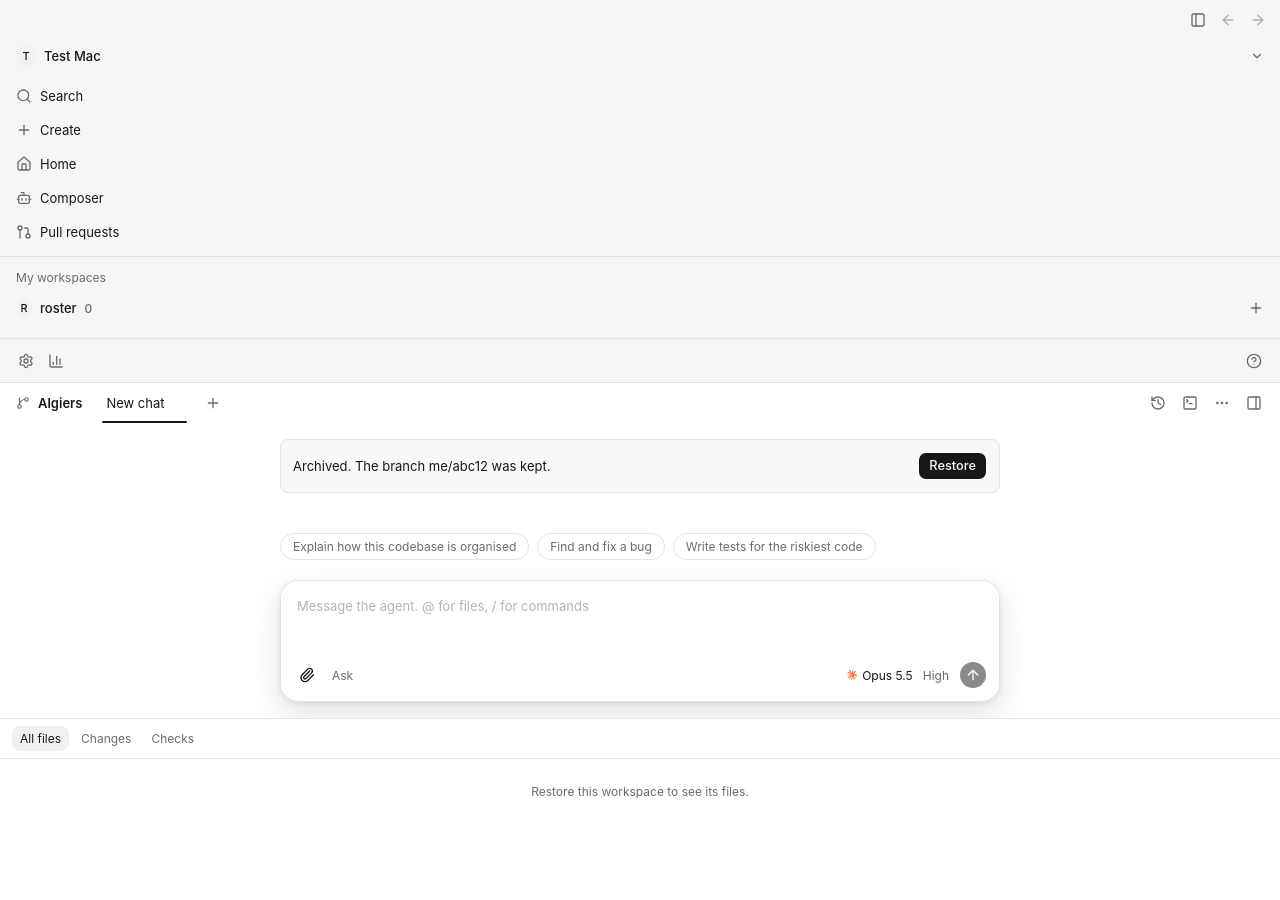
Test: Workspace page › offers Restore for an archived workspace and no Archive
Expected: the text "Archived. The branch me/abc12 was kept." is shown, [293,456,550,476]
Click the button "Restore". click: (953, 466)
box: [918,452,987,480]
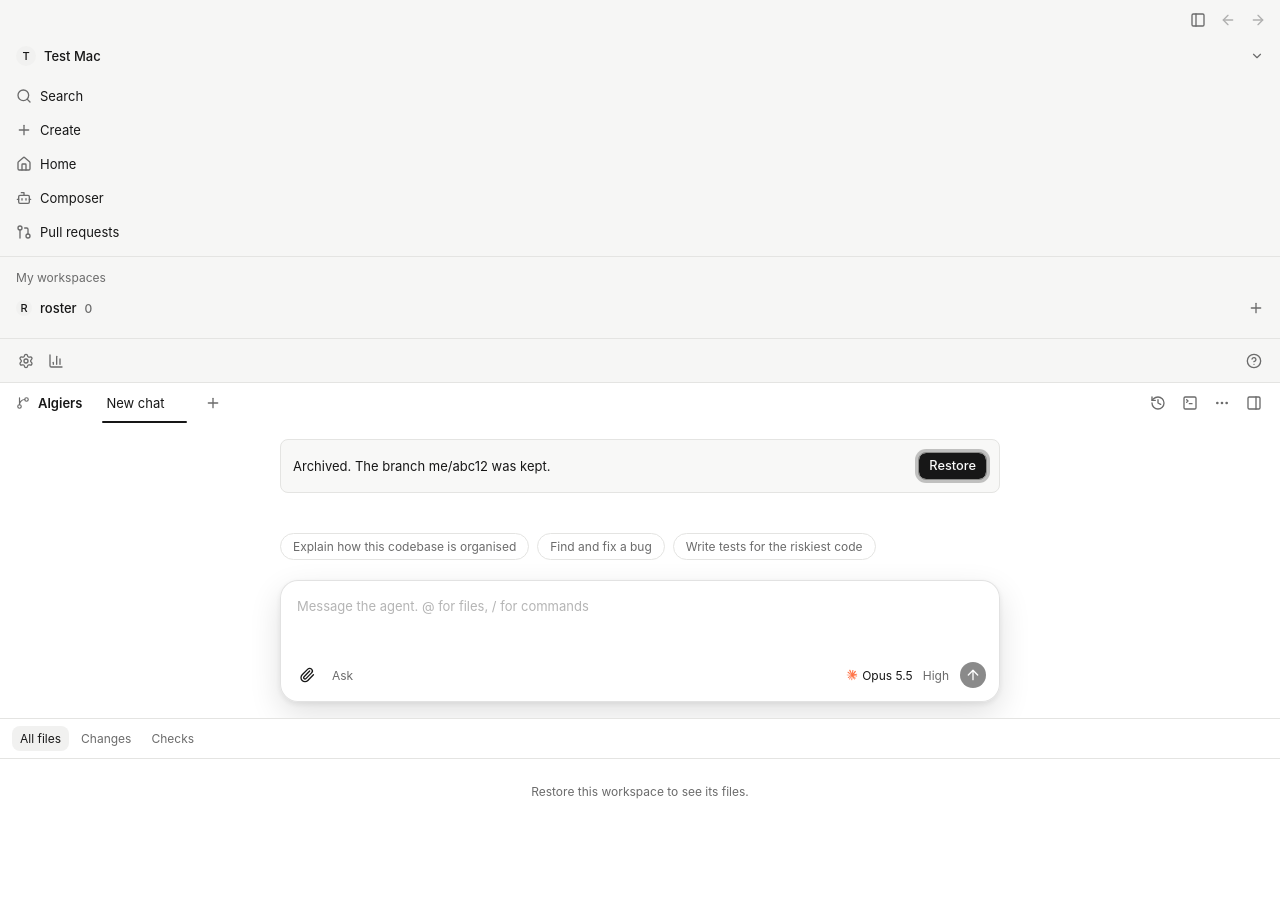
Click the button named "Actions for Algiers". click: (1222, 403)
box: [1208,389,1236,417]
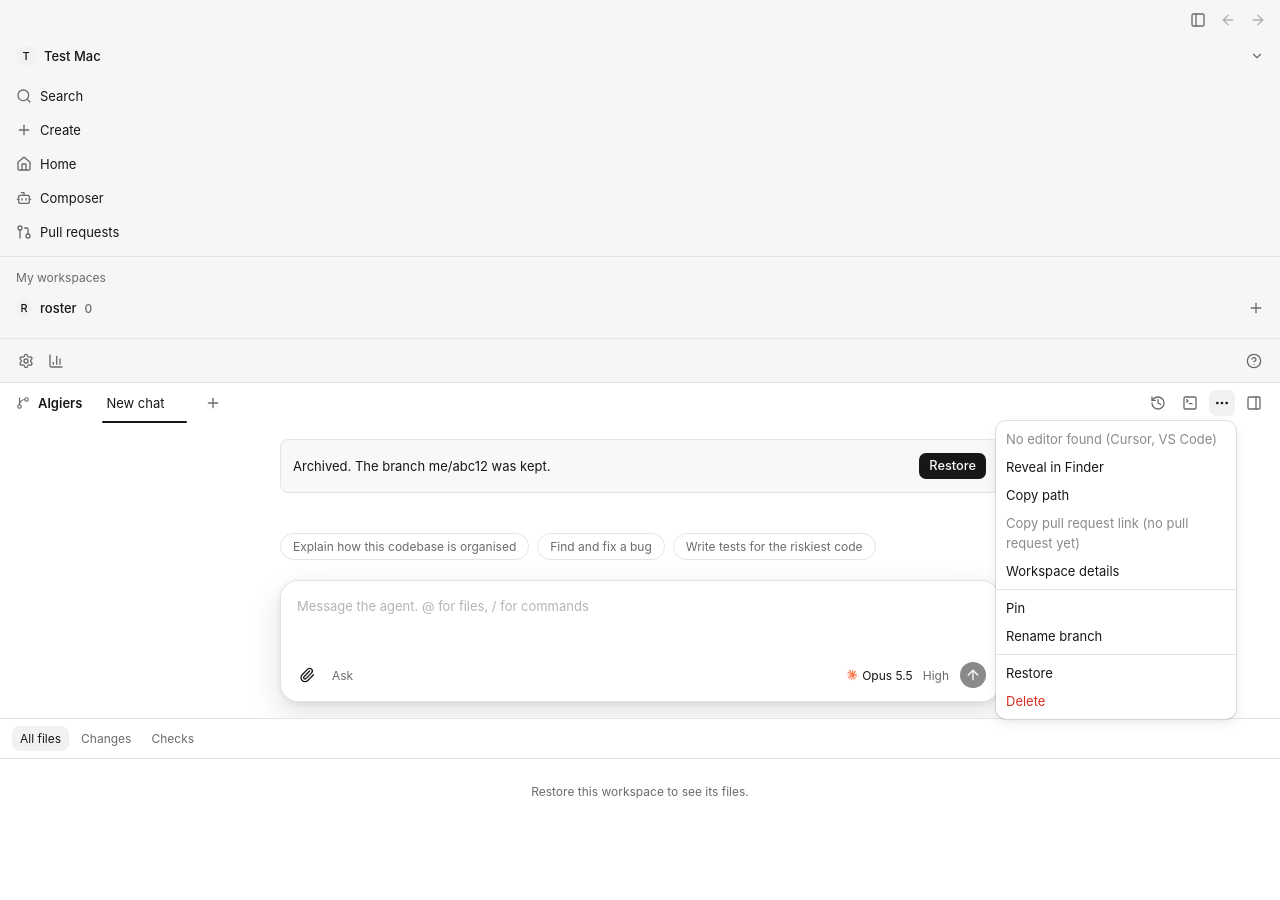
Expected: the menu item "Restore" is shown, [1006,665,1053,681]
